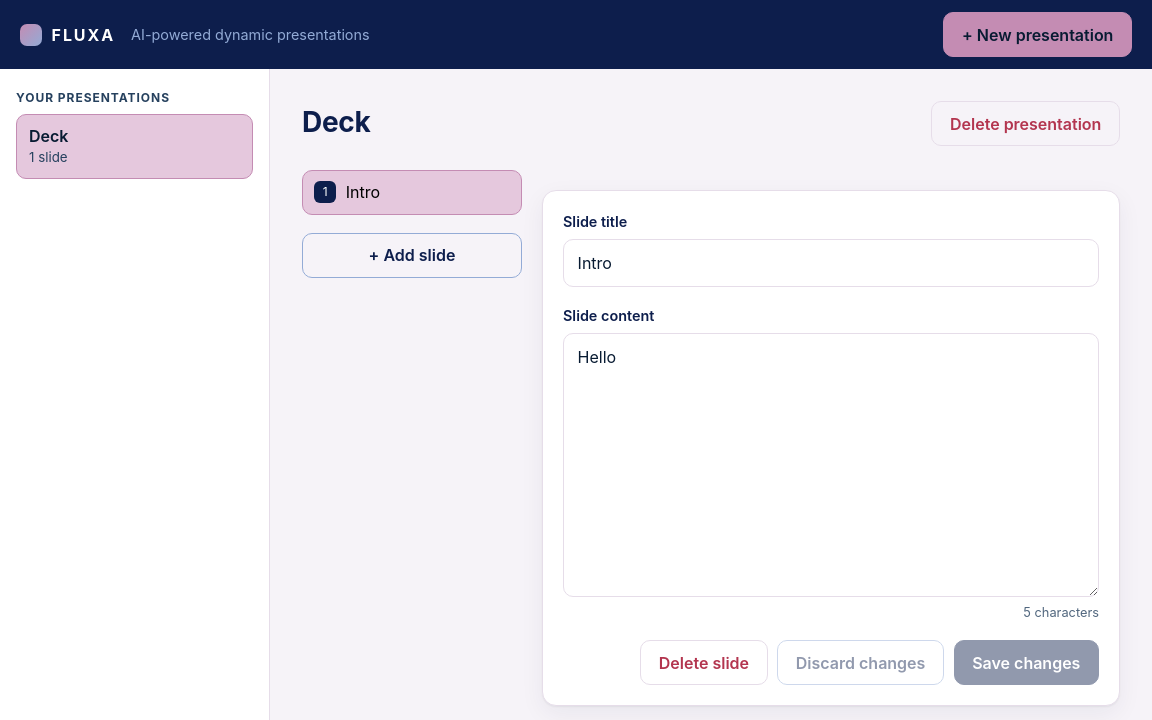
shows the character count of the slide content
Expected: the text with test id "content-count" reads "5 characters", [1023, 605, 1099, 620]
Type "!!" into the text box labelled "Slide content" at point(831, 465), box [563, 332, 1099, 597]
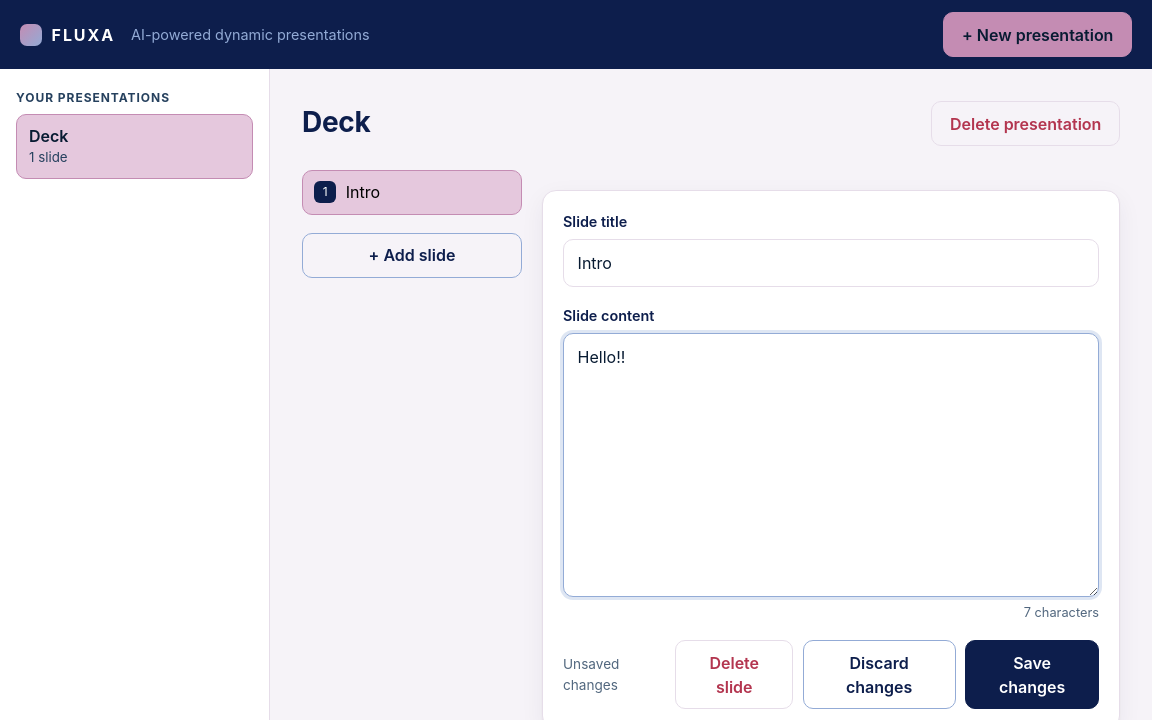
Expected: the text with test id "content-count" reads "7 characters", [1024, 605, 1099, 620]
